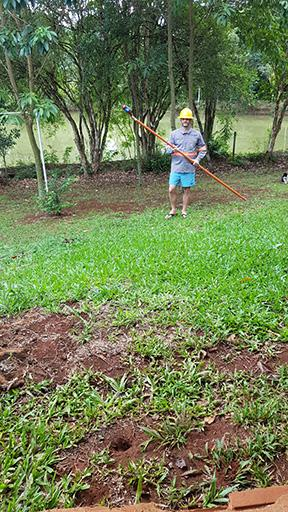Capacete: (177, 106, 195, 128)
Detector_Tensao_Contato: (116, 100, 135, 118)
Vara_Manobra: (131, 114, 248, 202)
